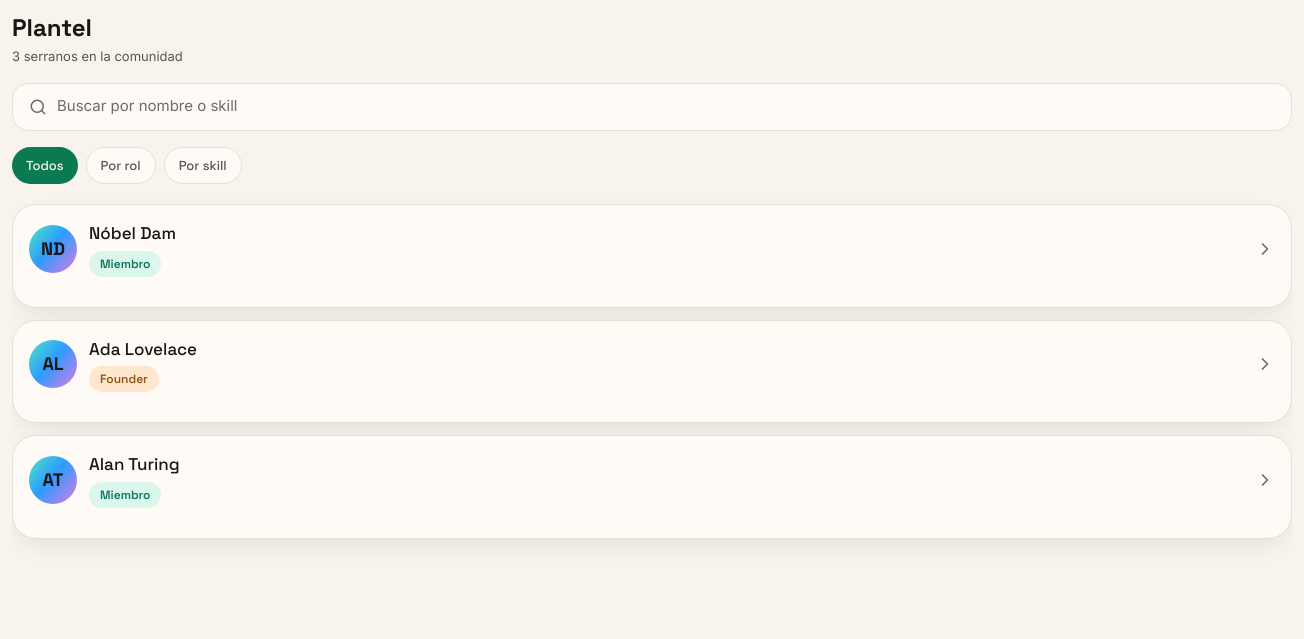
PlantelList › clears the role filter when the active chip is clicked
Click the button "Por rol": (121, 165) [86,146,156,184]
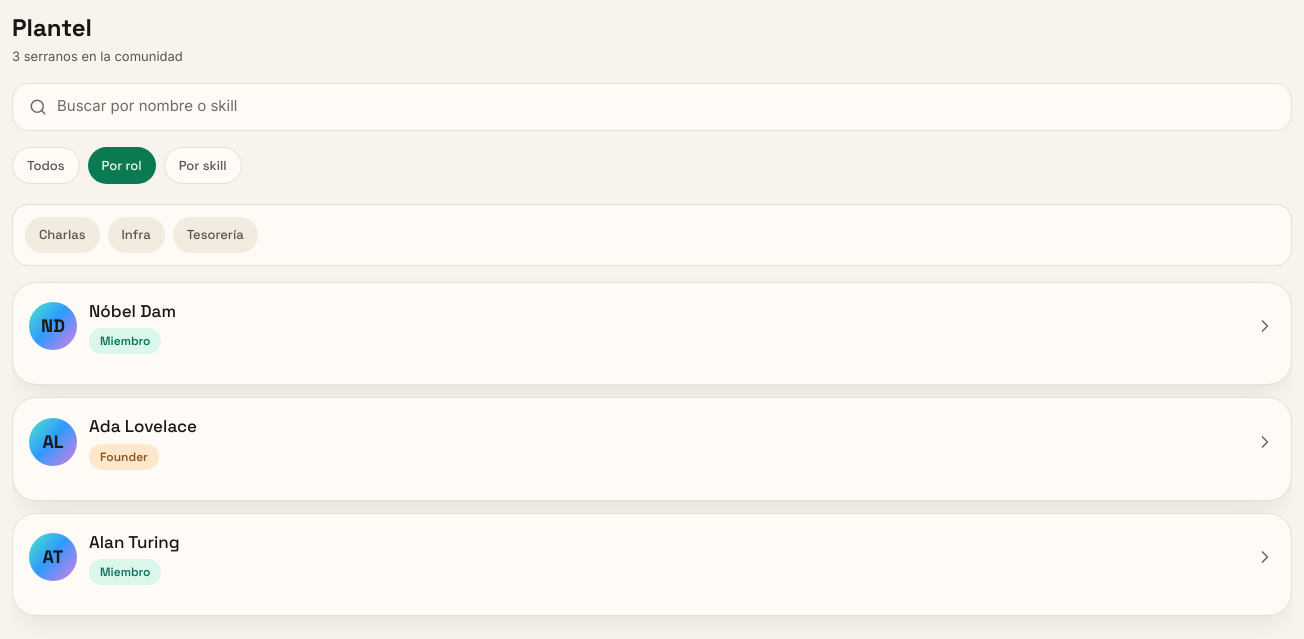
Click the button "Tesorería": (215, 235) [173,217,258,252]
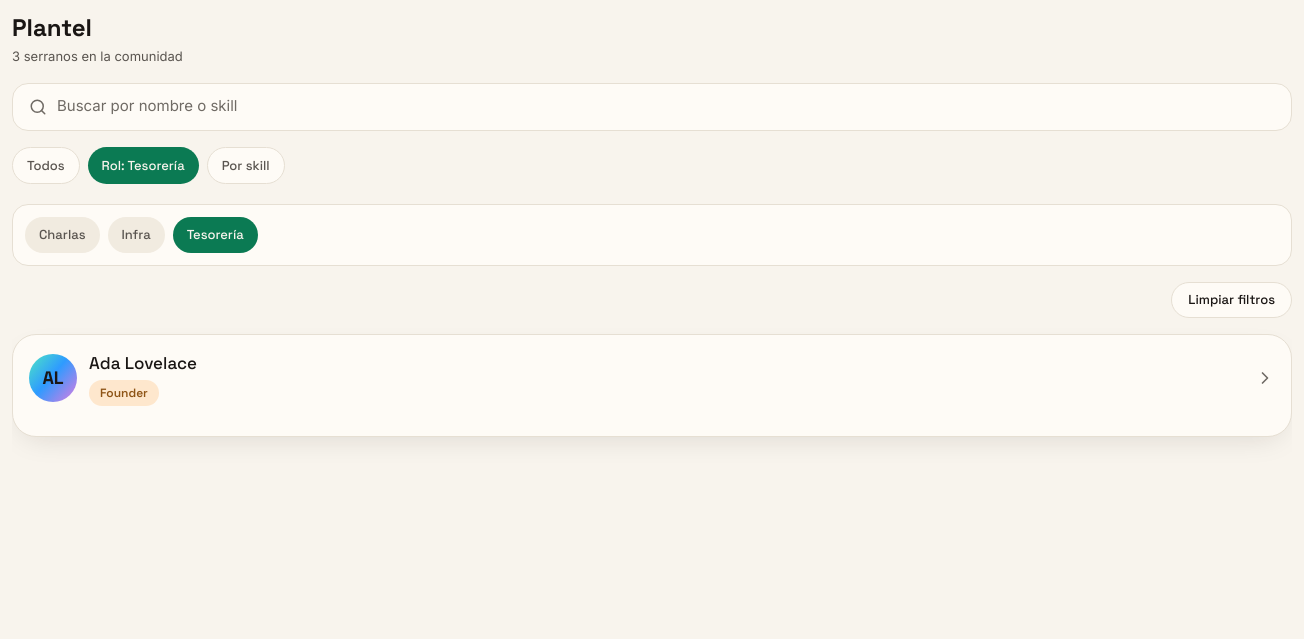
Click the button "Rol: Tesorería": (143, 165) [88,146,199,184]
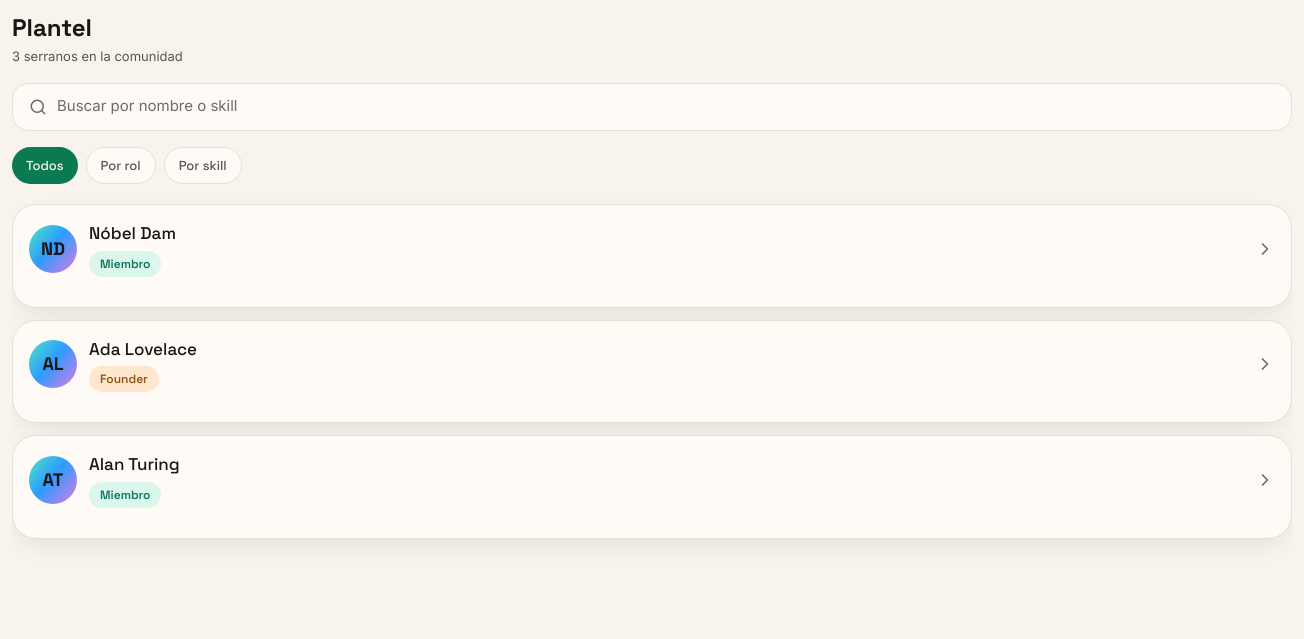
Expected: the text "Nóbel Dam" is shown, [89,221,176,246]
Expected: the button "Por rol" is shown, [86,146,156,184]
